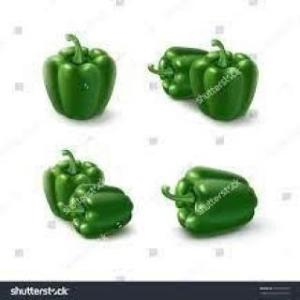bell_pepper: (44, 34, 120, 122)
